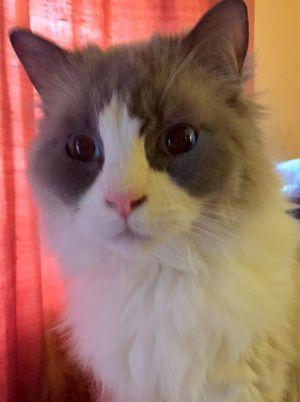ragdoll: (1, 1, 267, 275)
